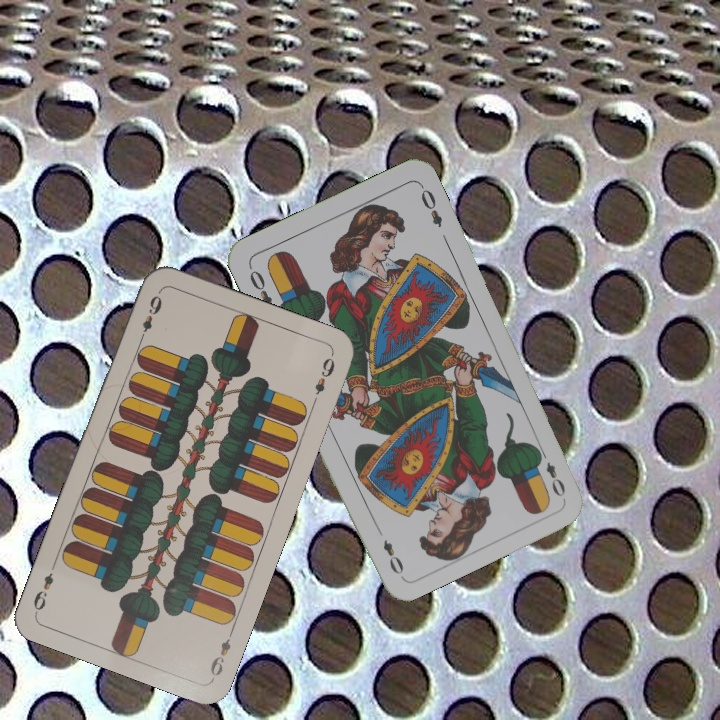E9: (206, 625, 237, 679), (135, 291, 165, 345)
EO: (534, 444, 568, 500), (244, 262, 275, 311)
